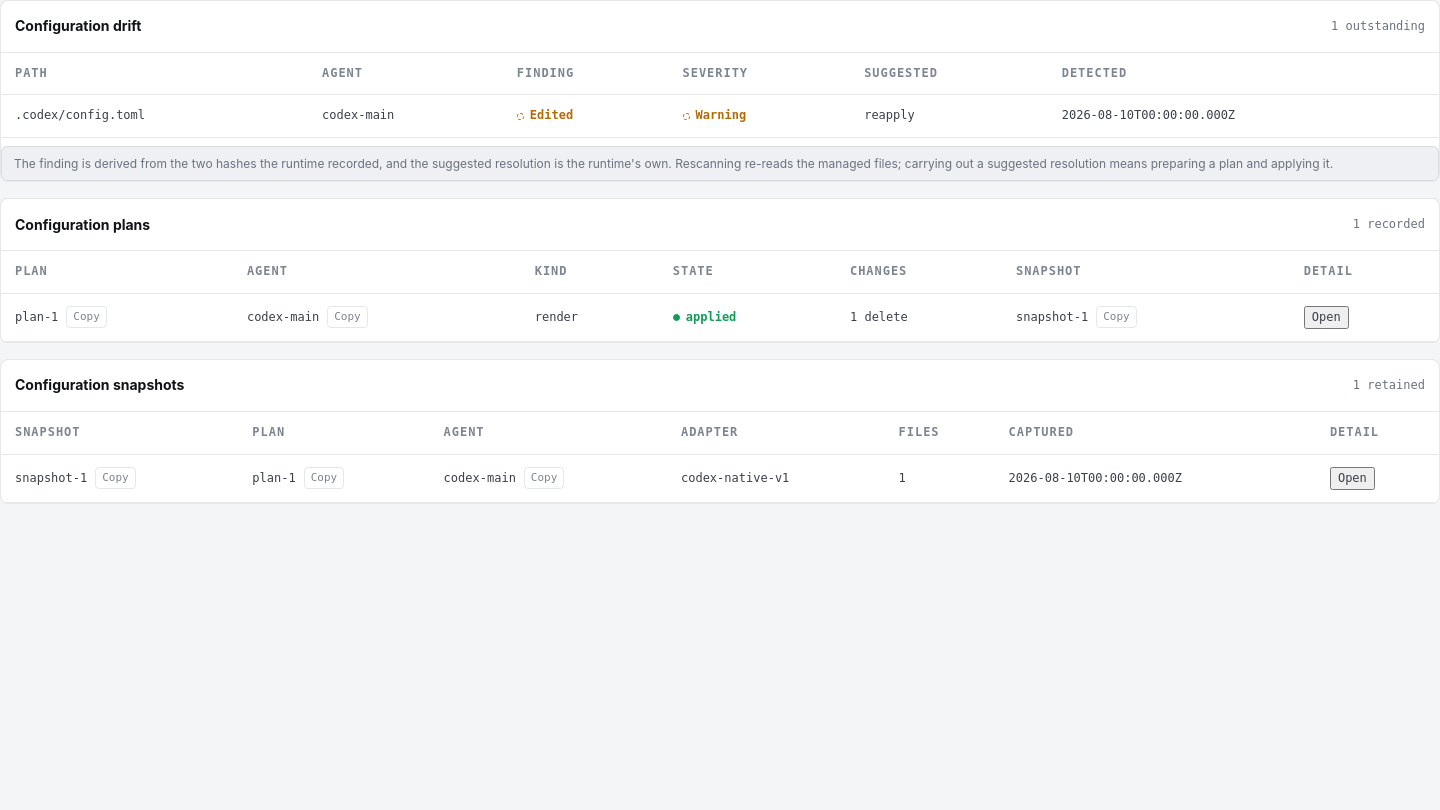
Test: ConfigView › says a change produced no diff rather than rendering an empty block
Click the button with aria-label "Open plan-1" at (1326, 318), box [1304,306,1349,329]
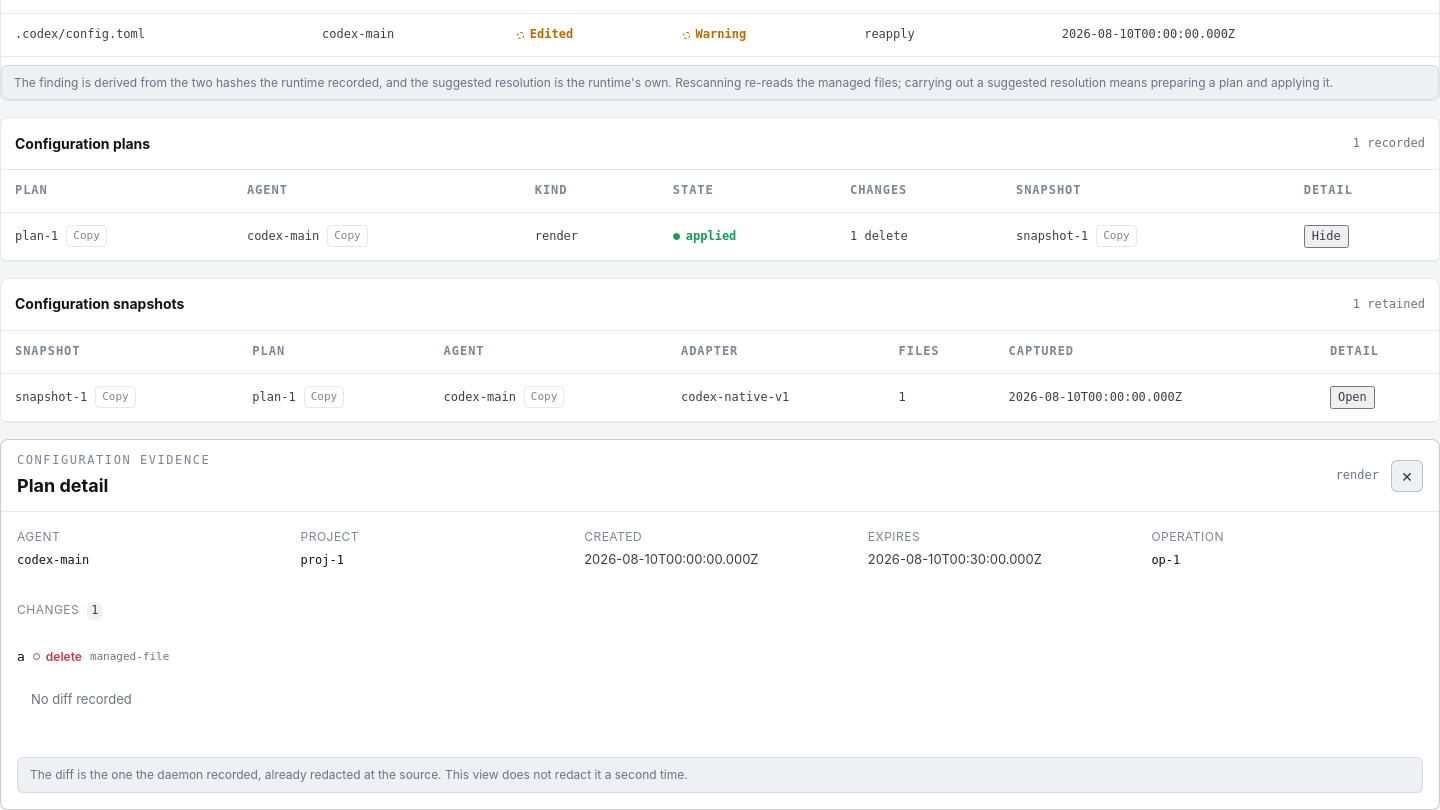
Expected: the text "No diff recorded" is shown, [31,691,132,707]
